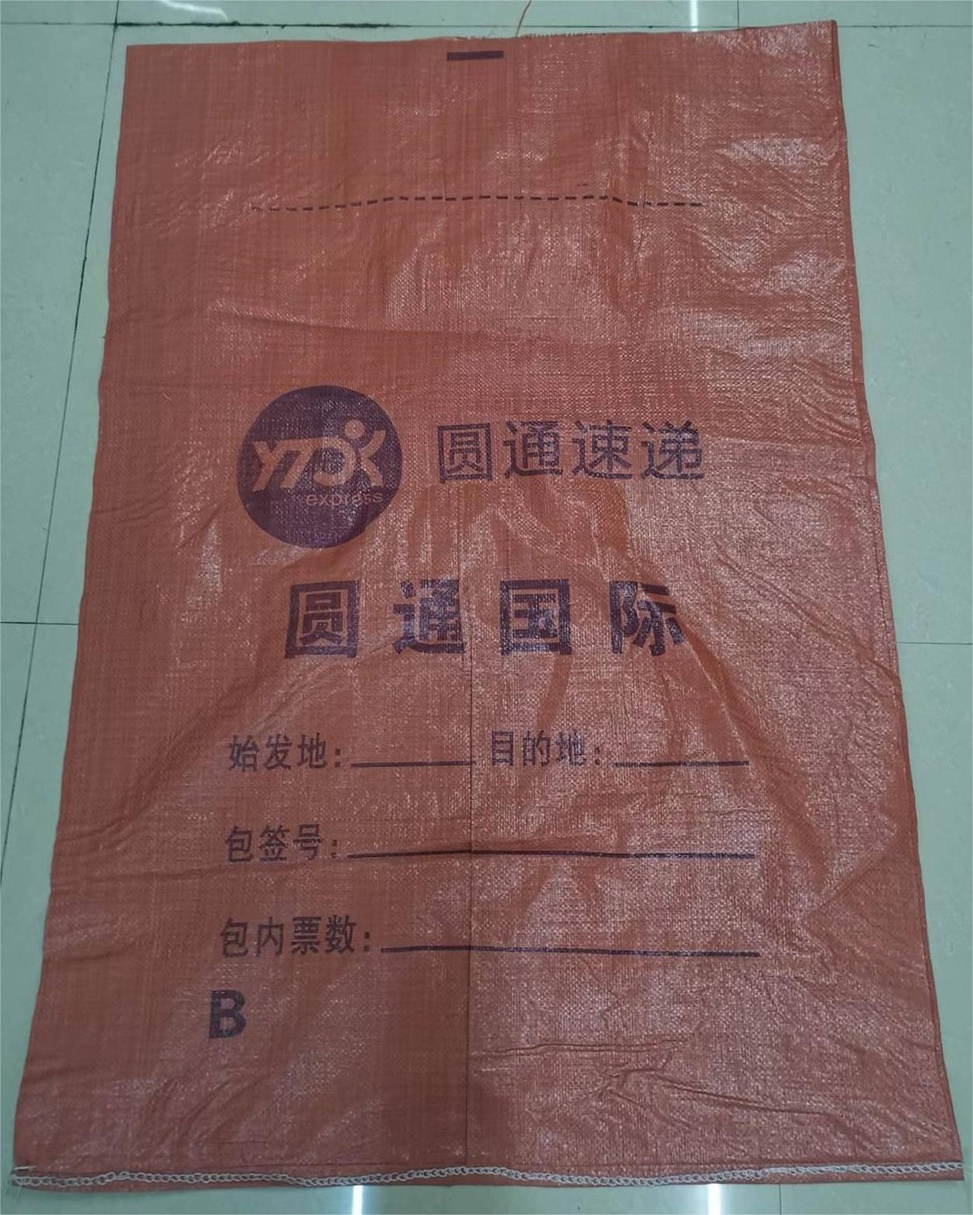塑料袋: (16, 25, 961, 1184)
